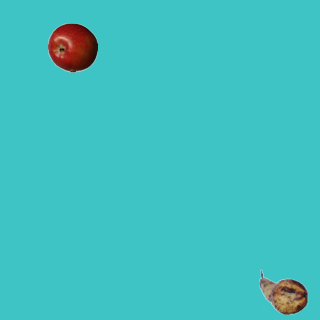Apple Braeburn: (47, 22, 97, 72)
Pear Abate: (258, 267, 308, 317)
